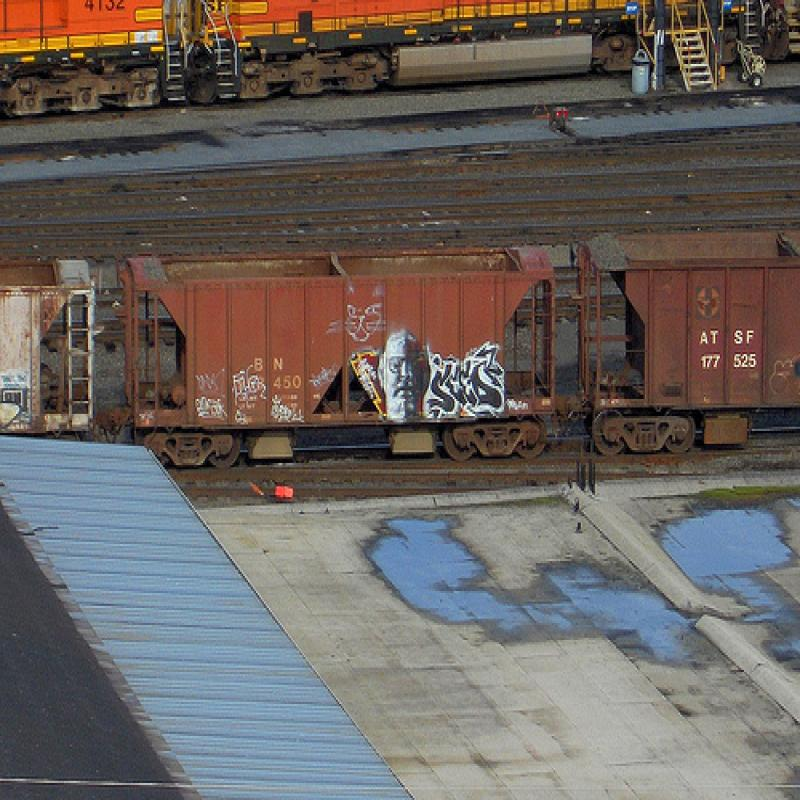train: (1, 229, 799, 466), (1, 1, 799, 120)
